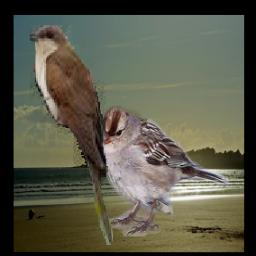Cuckoo: (28, 25, 113, 246)
Sparrow: (96, 107, 230, 237)
